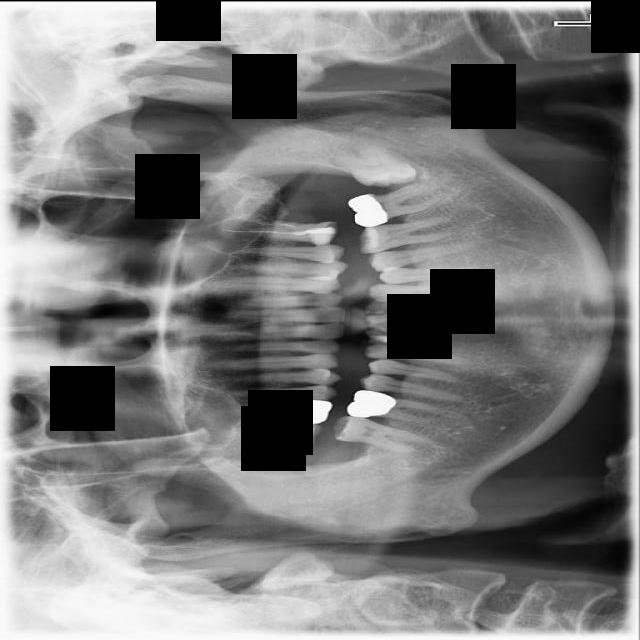52: (347, 188, 388, 231), (347, 388, 395, 417), (302, 217, 339, 247), (294, 397, 333, 425), (363, 327, 396, 346)
73: (220, 216, 304, 243), (391, 333, 453, 350), (543, 109, 558, 118)
Biomet 3i Implant: (325, 124, 421, 205)
Blue Sky Bio Implant: (345, 177, 444, 231)
Caries: (217, 413, 324, 447)
Implant: (333, 410, 436, 459)
